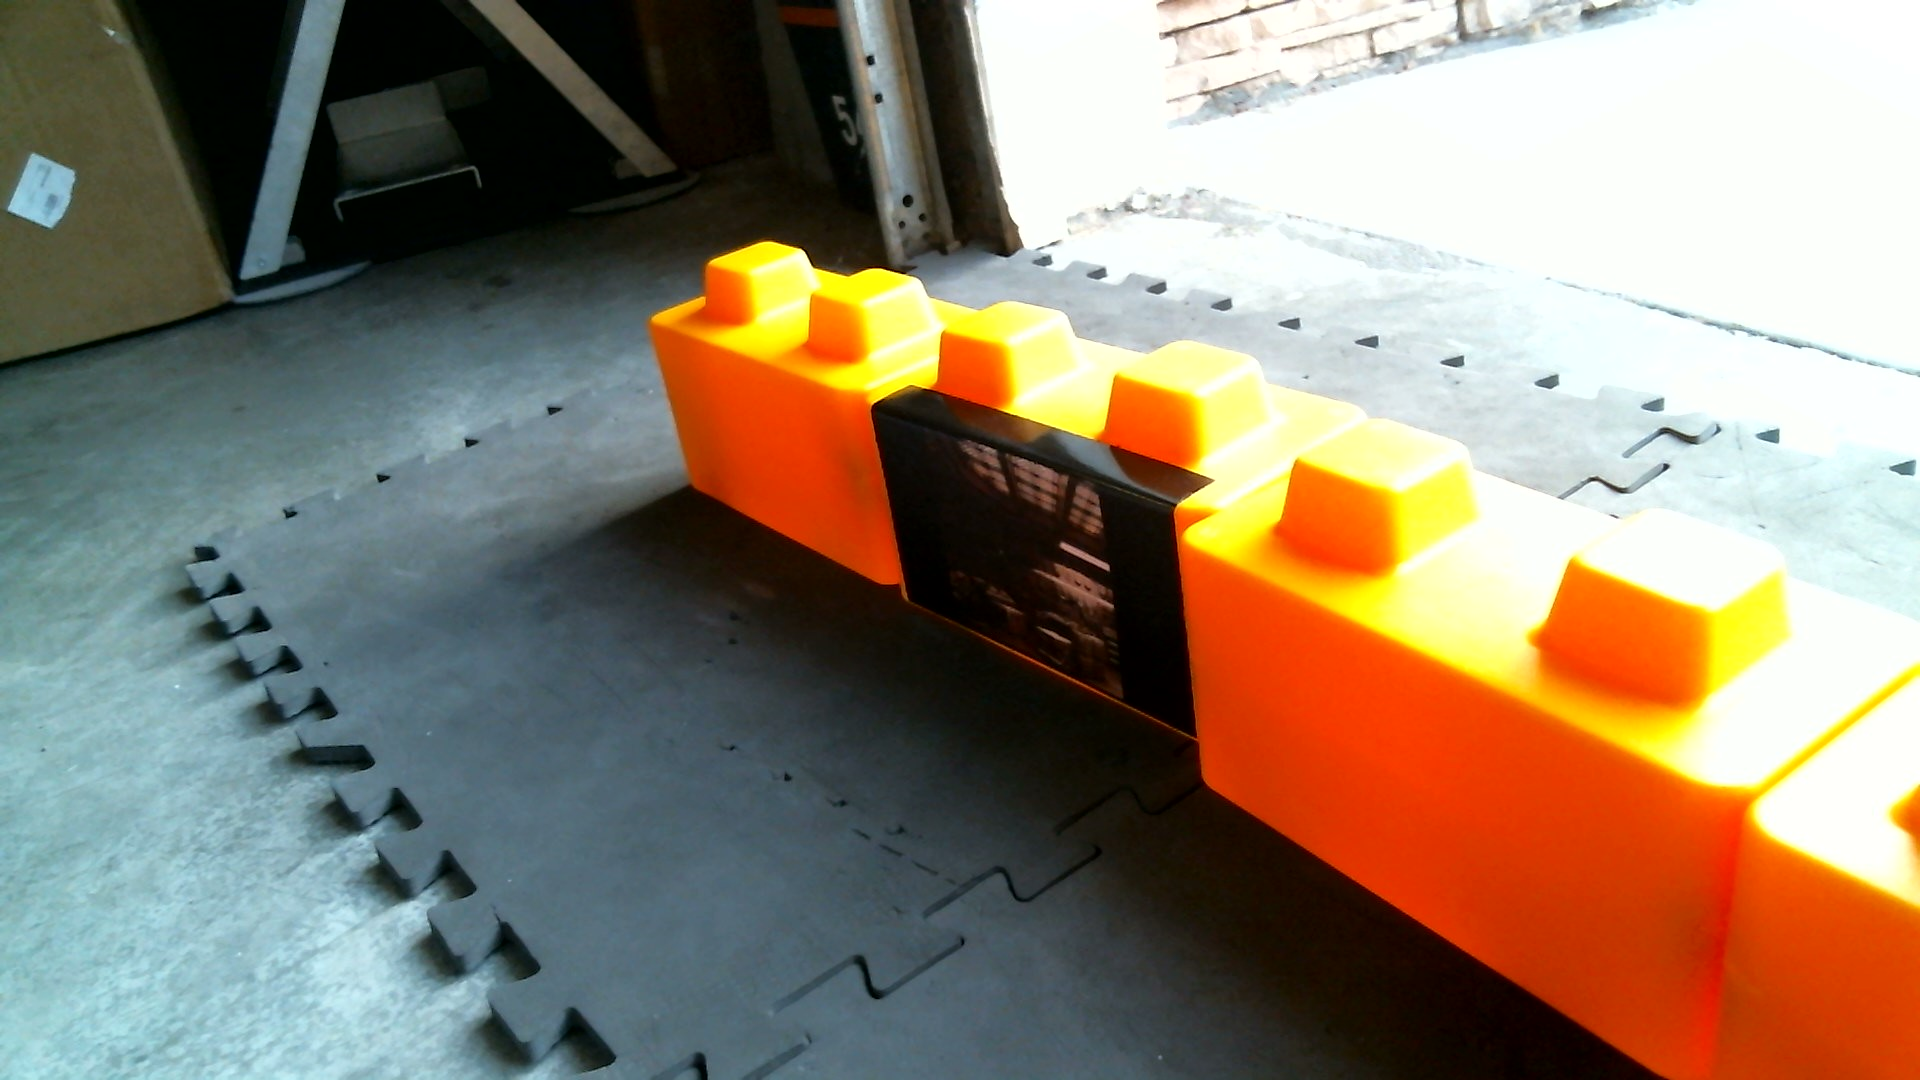center: (632, 237, 1907, 1080)
